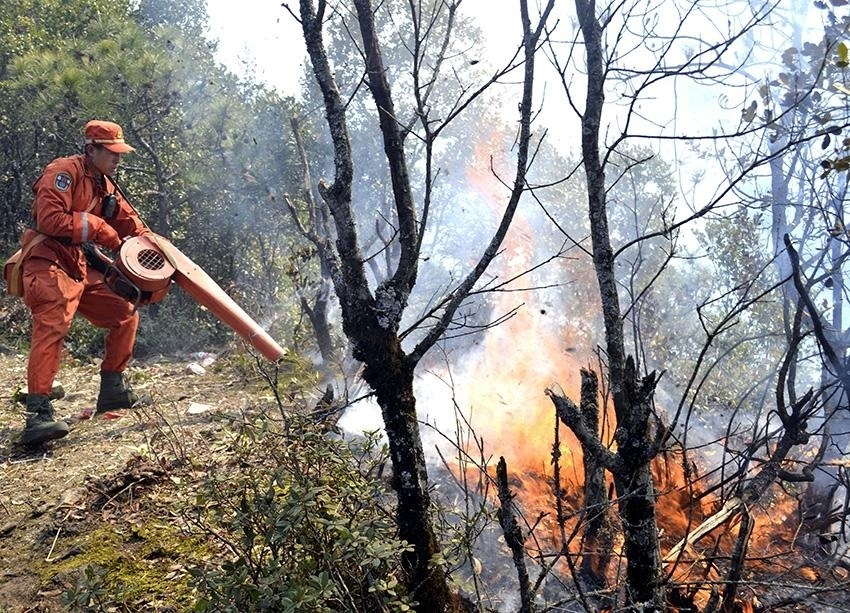fire: (415, 141, 770, 592)
